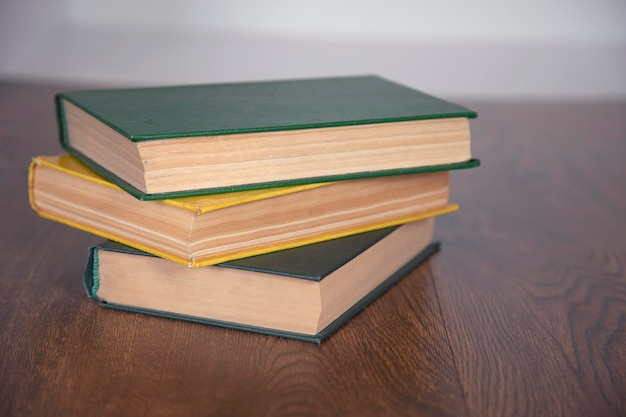book: (21, 55, 475, 344)
